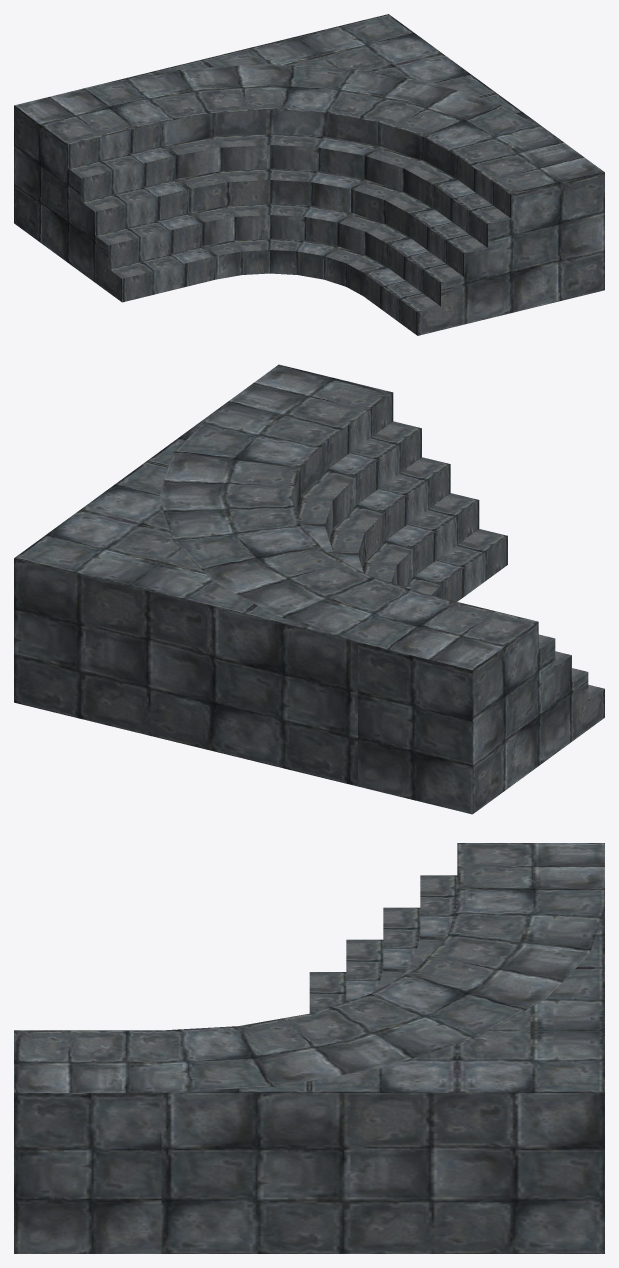
The model's file is bottom-stair-01-curve.fbx.
3 renders of one model, top to bottom at view 1: azimuth 30°, elevation 25°; view 2: azimuth 150°, elevation 25°; view 3: azimuth 270°, elevation 25°, orthographic. The views are drawn at different scales.
Visible parts, largest first — view 1: Plane.029; view 2: Plane.029; view 3: Plane.029.
Part boxes in pixels (x1,y1,x2,y2): Plane.029: (14,14,604,335); Plane.029: (14,364,604,814); Plane.029: (14,843,604,1253).
Bounding box in the file's own units: 2 × 0.6014 × 2.
